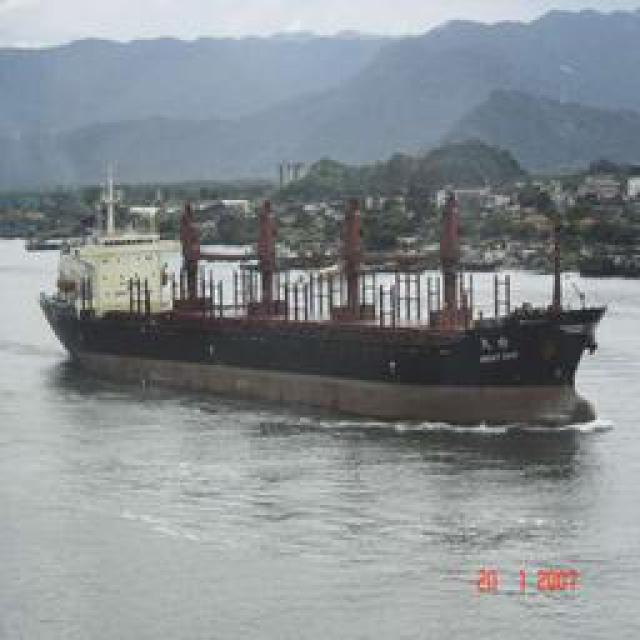Ship: (50, 193, 603, 421)
